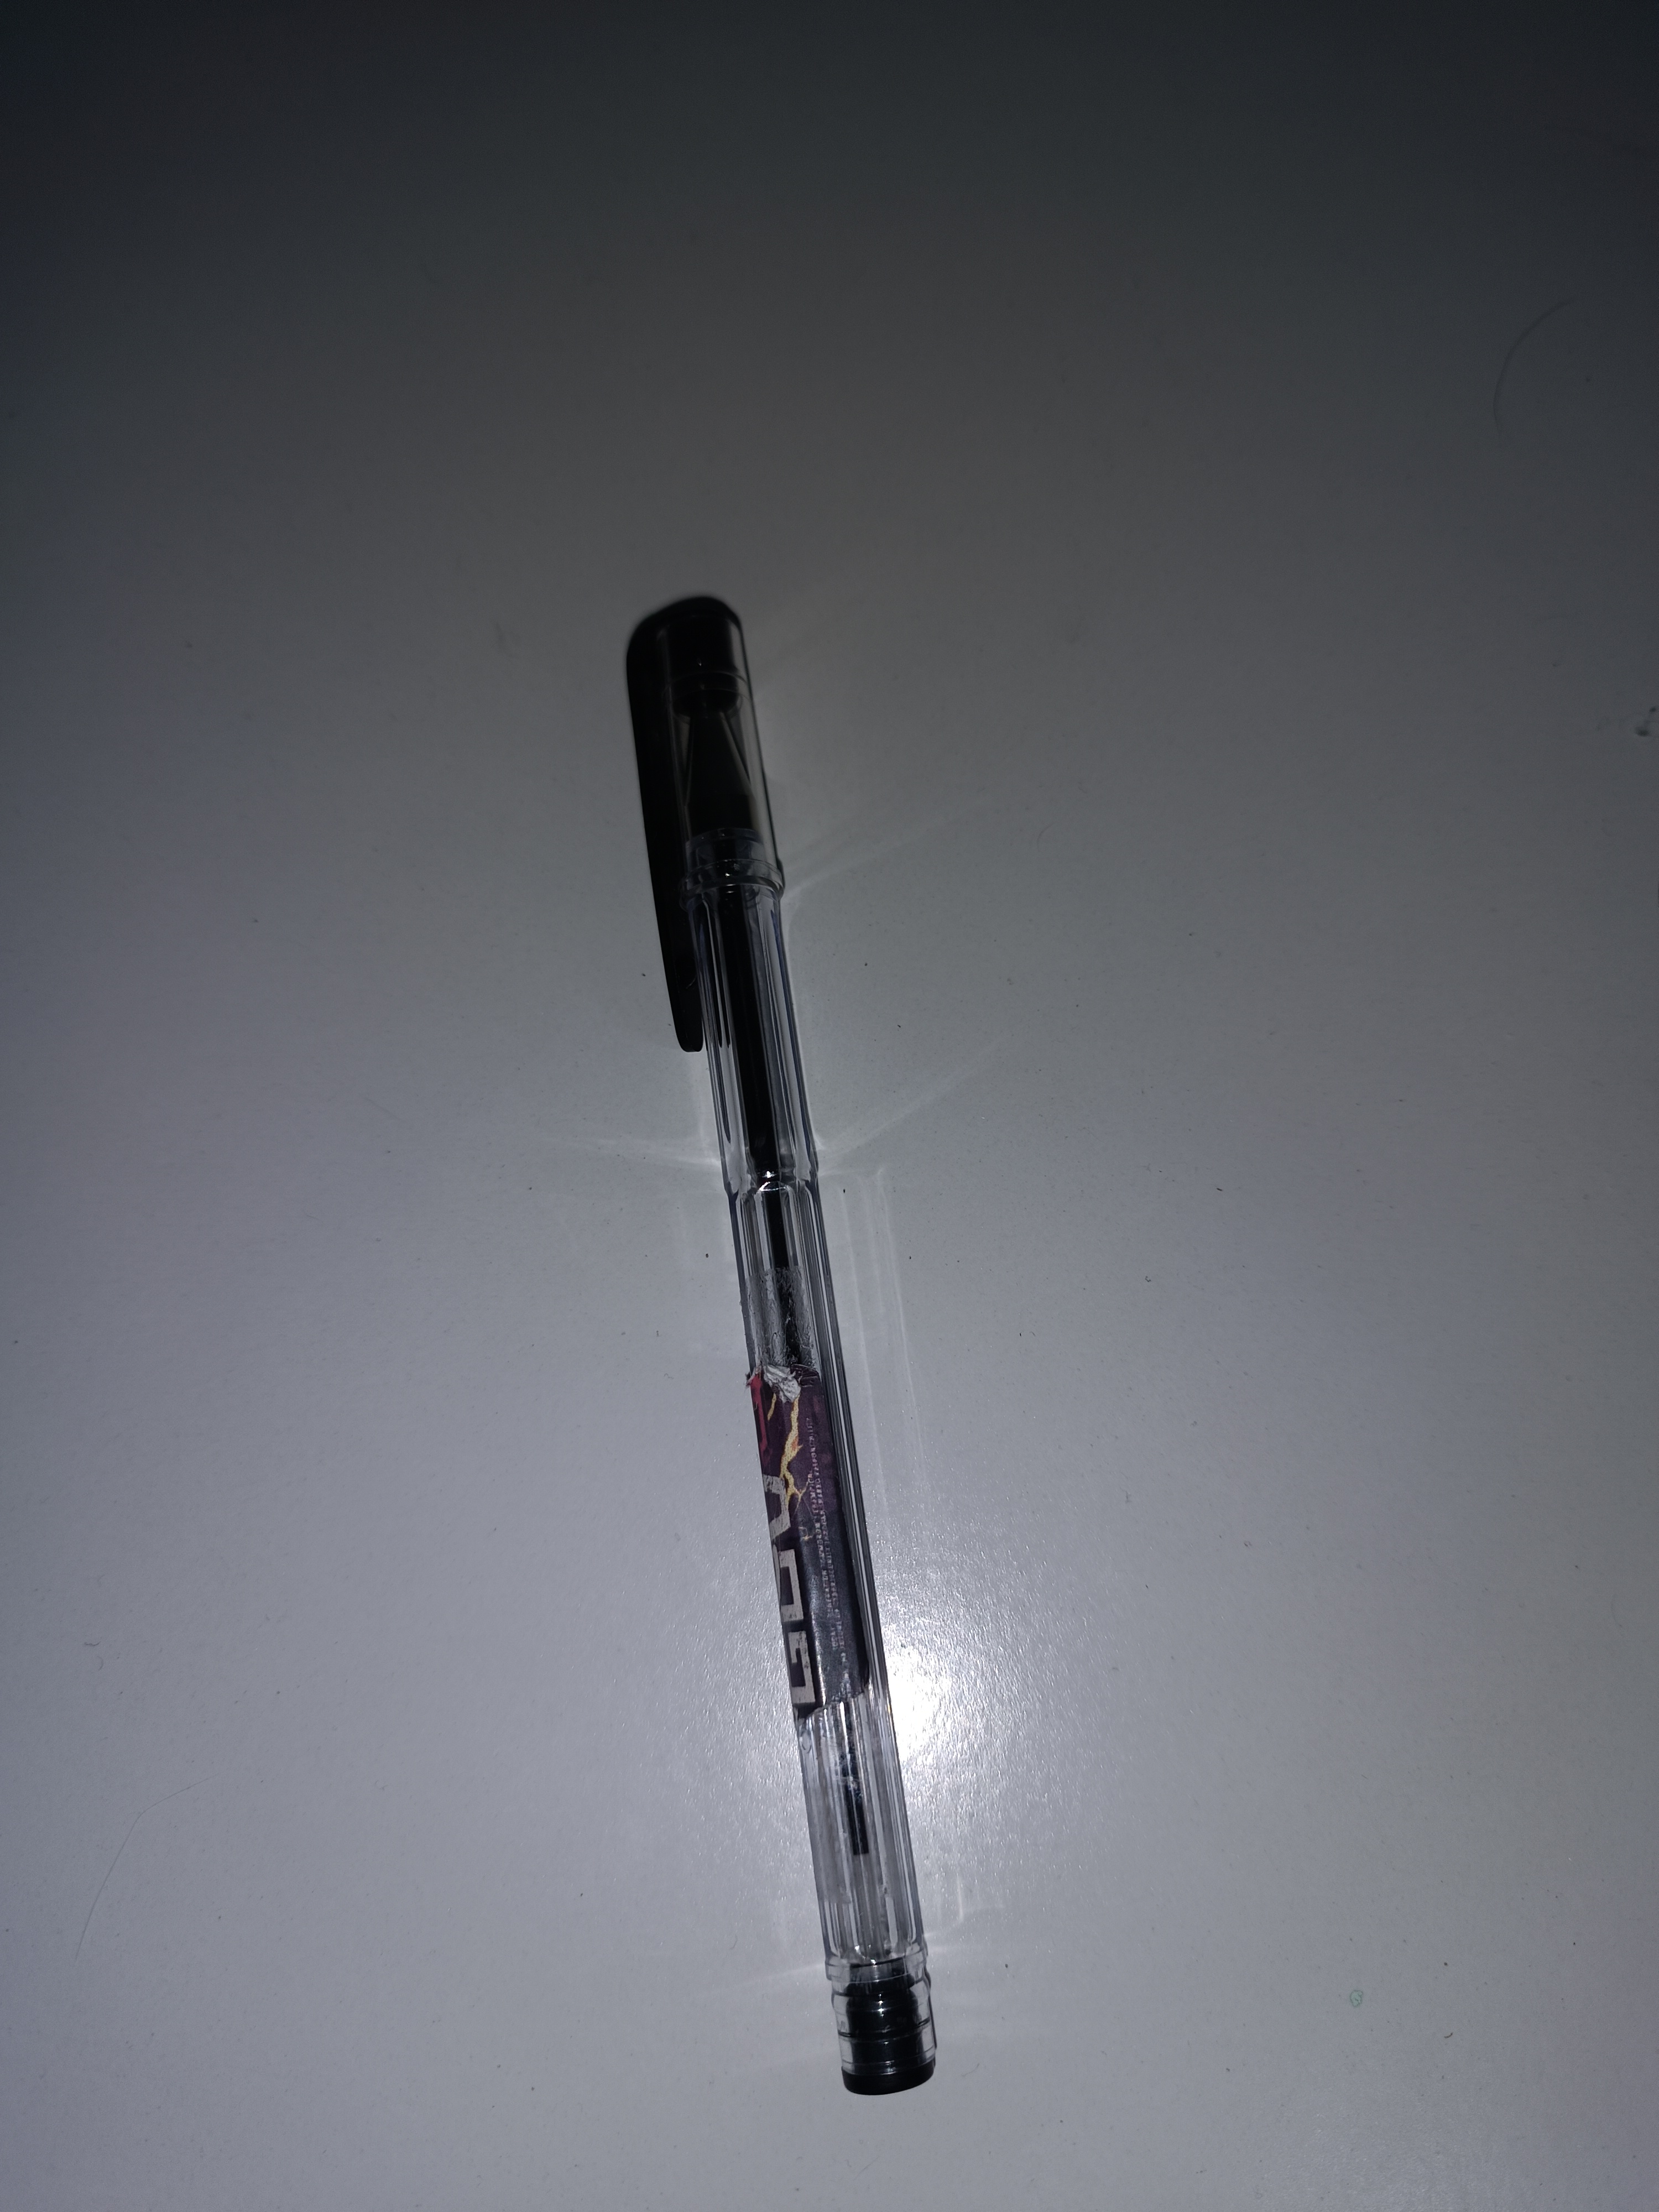Pen: (331, 571, 1202, 2212)
